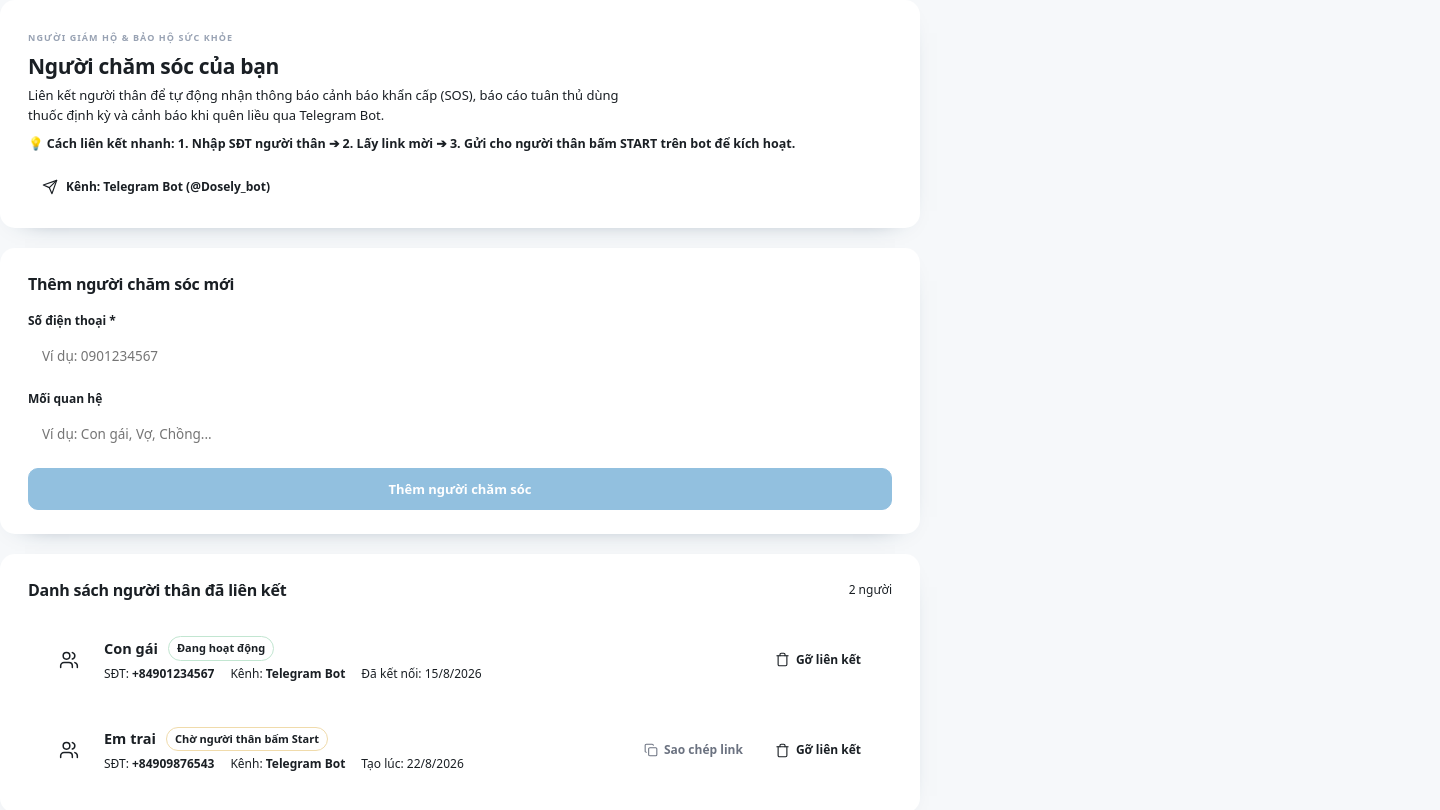
Test: CaregiverView › submits the create caregiver form and shows Telegram invite box with code
Expected: the text "Con gái" is shown, 104,638 -> 158,659
Step 1. Type "0903334455" into the field with placeholder "Ví dụ: 0901234567" → (460, 356), box 28,336 -> 892,376
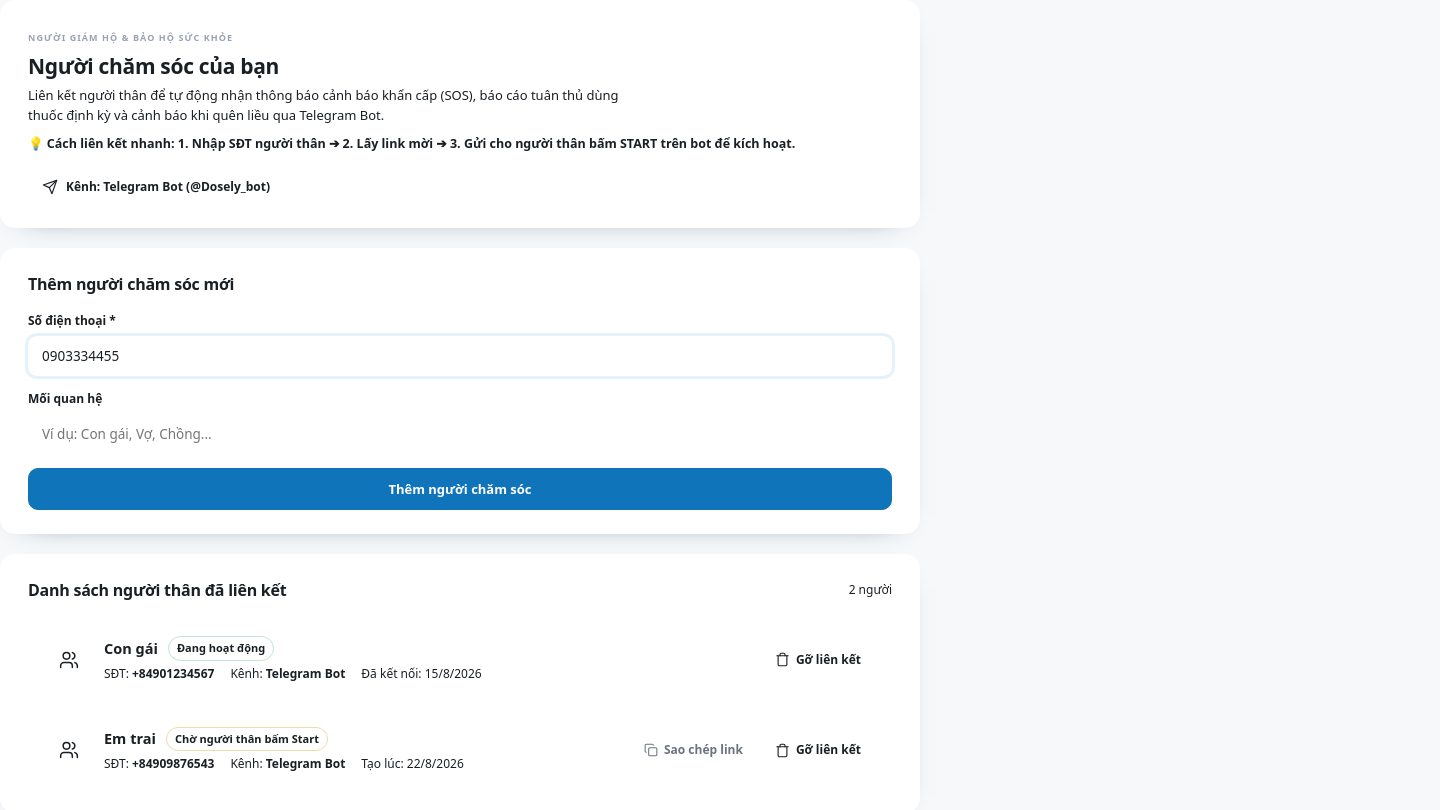
Step 2. Type "Cháu gái" into the field with placeholder "Ví dụ: Con gái, Vợ, Chồng..." → (460, 434), box 28,414 -> 892,454
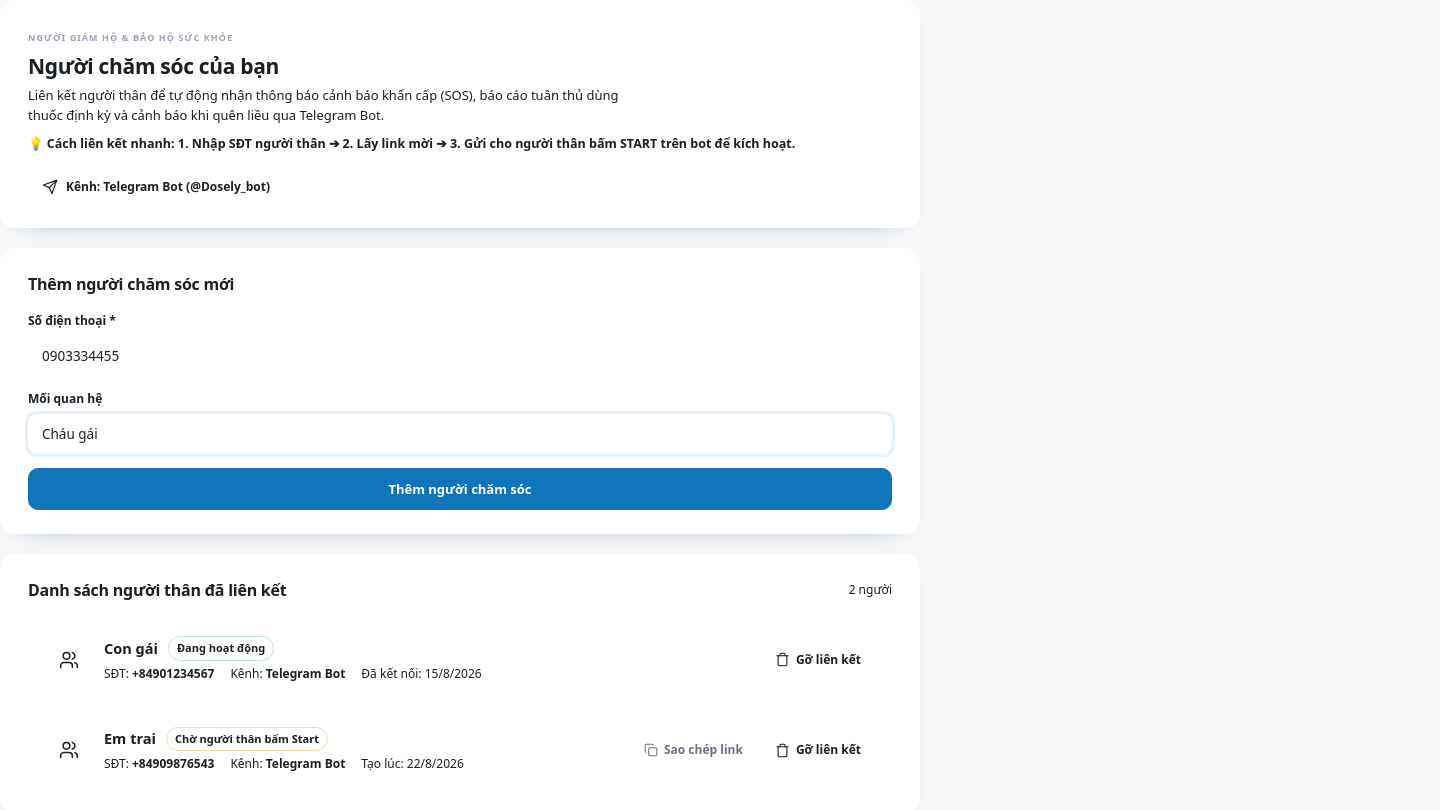
Step 3. Click the button "Thêm người chăm sóc" → (460, 489), box 28,468 -> 892,510
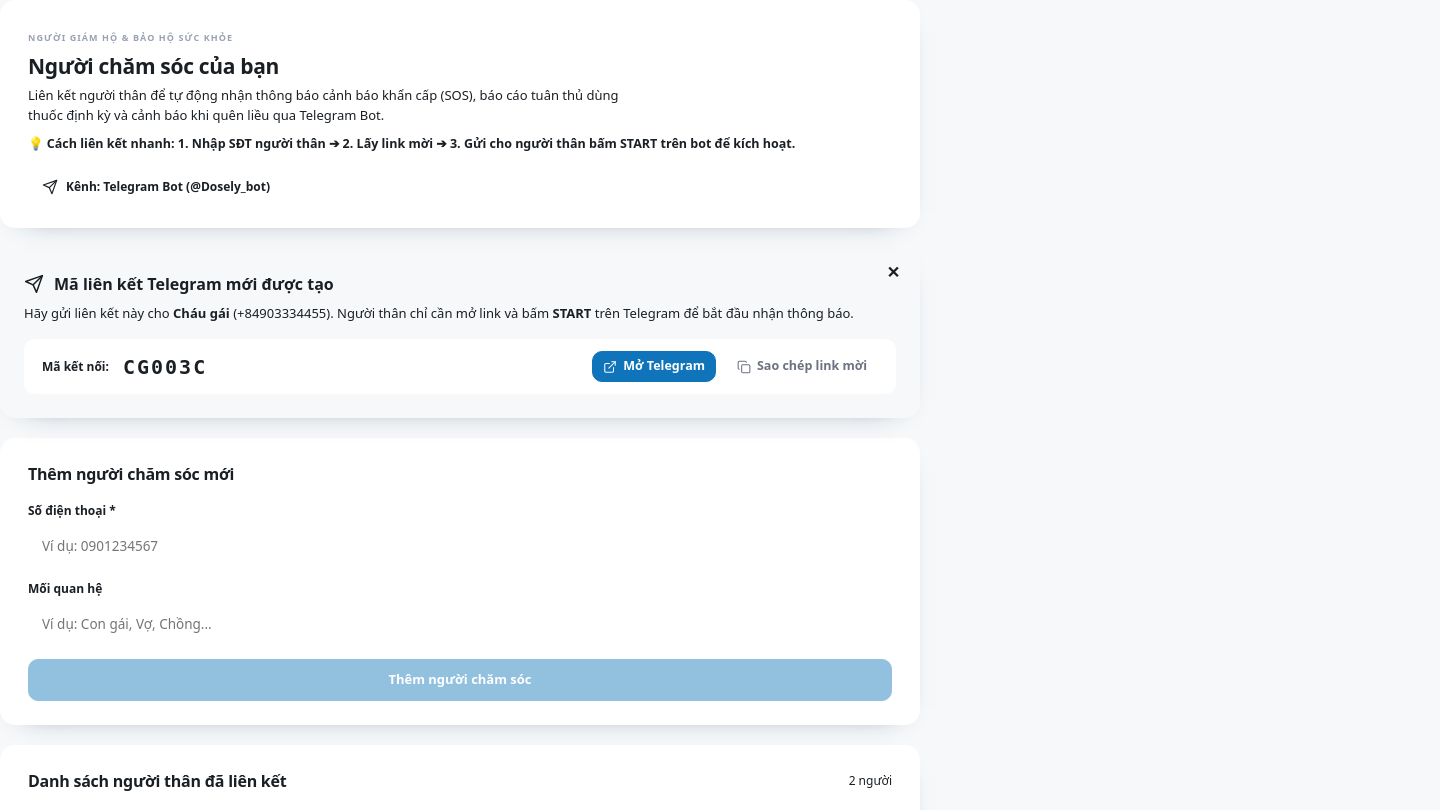
Now the text "Mã liên kết Telegram mới được tạo" is shown, box 54,272 -> 334,296
Now the text "CG003C" is shown, box 123,352 -> 207,382
Now the text "Mở Telegram" is shown, box 623,357 -> 705,376
